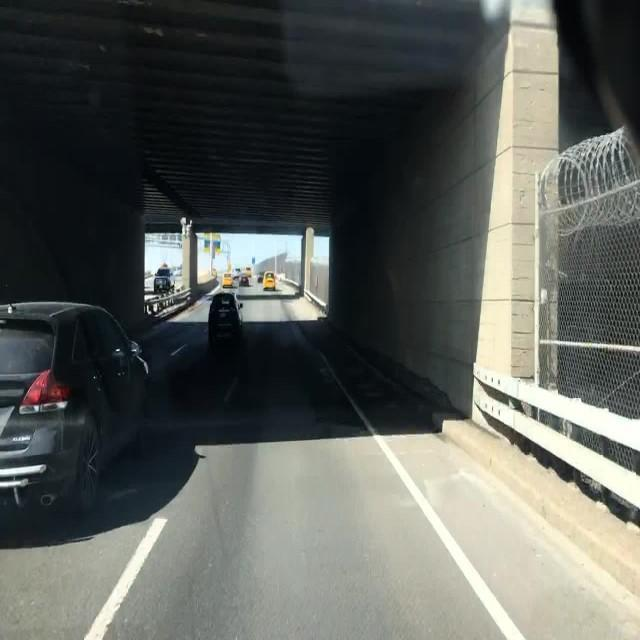normal: (0, 270, 189, 562), (192, 276, 254, 342)
